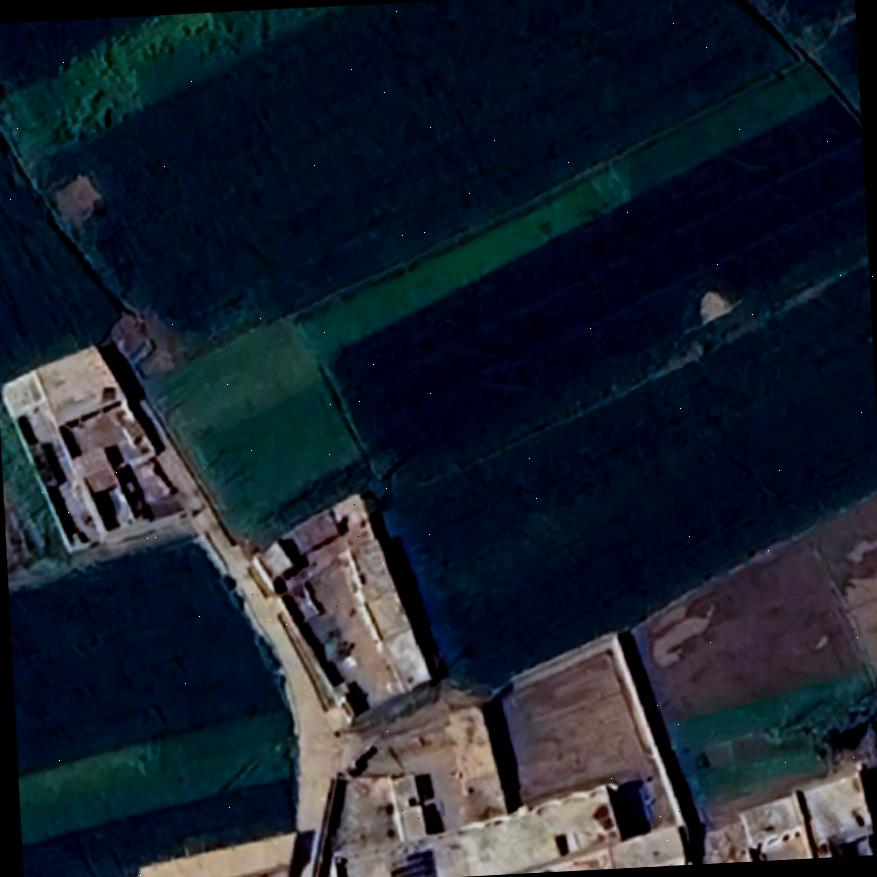Solarpanel: (385, 844, 438, 877)
